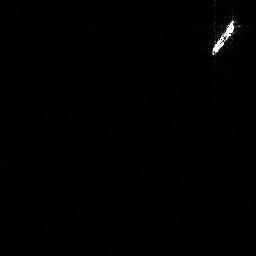ship: (209, 17, 239, 57)
